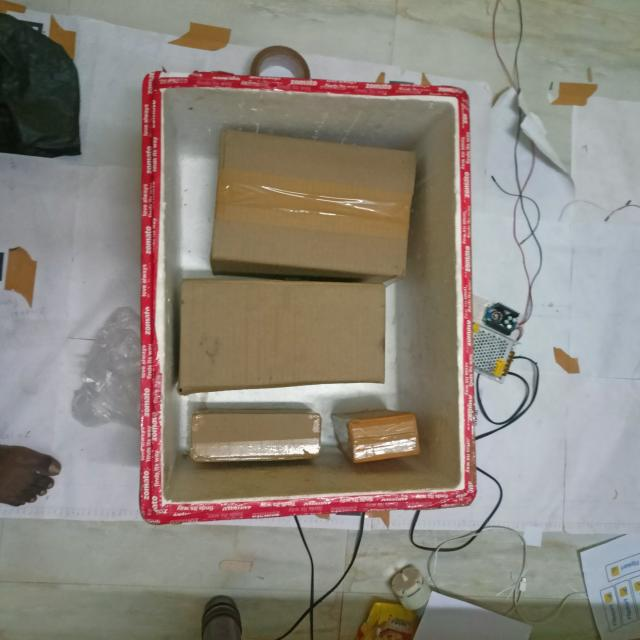box: (210, 116, 436, 292), (165, 266, 383, 402)
